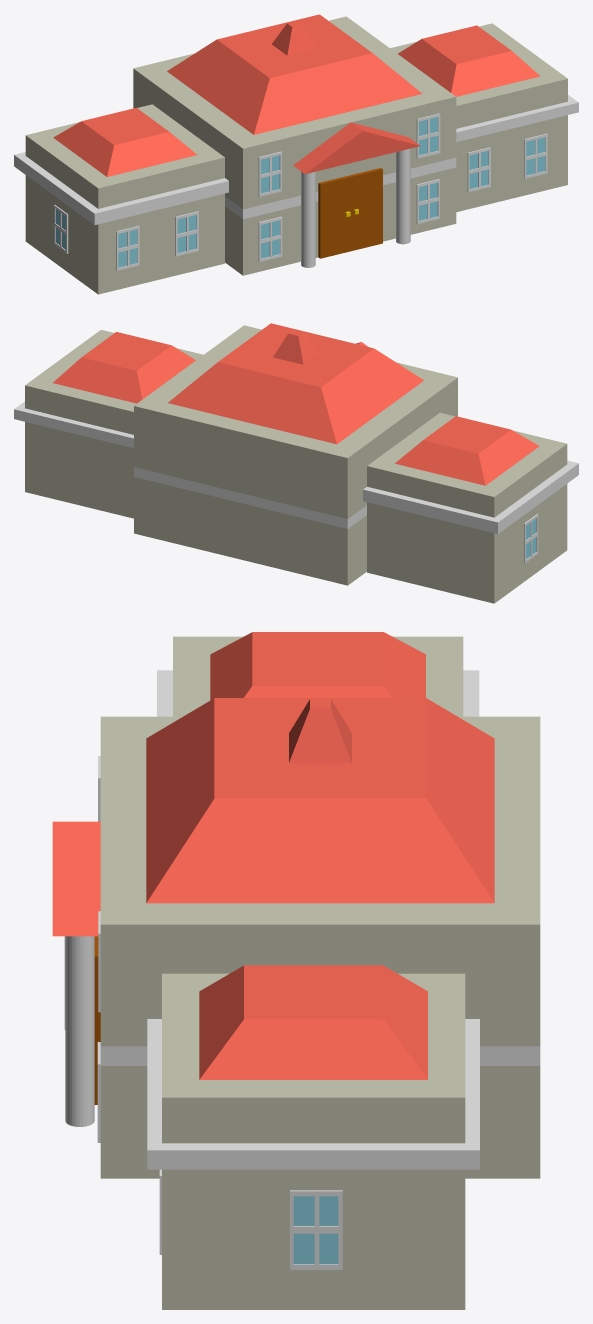
File: library.fbx
3 renders of one model, top to bottom at view 1: azimuth 30°, elevation 25°; view 2: azimuth 150°, elevation 25°; view 3: azimuth 270°, elevation 25°, orthographic. The views are drawn at different scales.
Parts seen in each view (by area): view 1: Cube; view 2: Cube; view 3: Cube.
Boxes of the visible parts, x1,y1,x2,y2 form: Cube: (14, 14, 578, 294); Cube: (14, 323, 578, 603); Cube: (52, 632, 540, 1309).
Bounding box in the file's own units: 7600 × 2847 × 3327.
